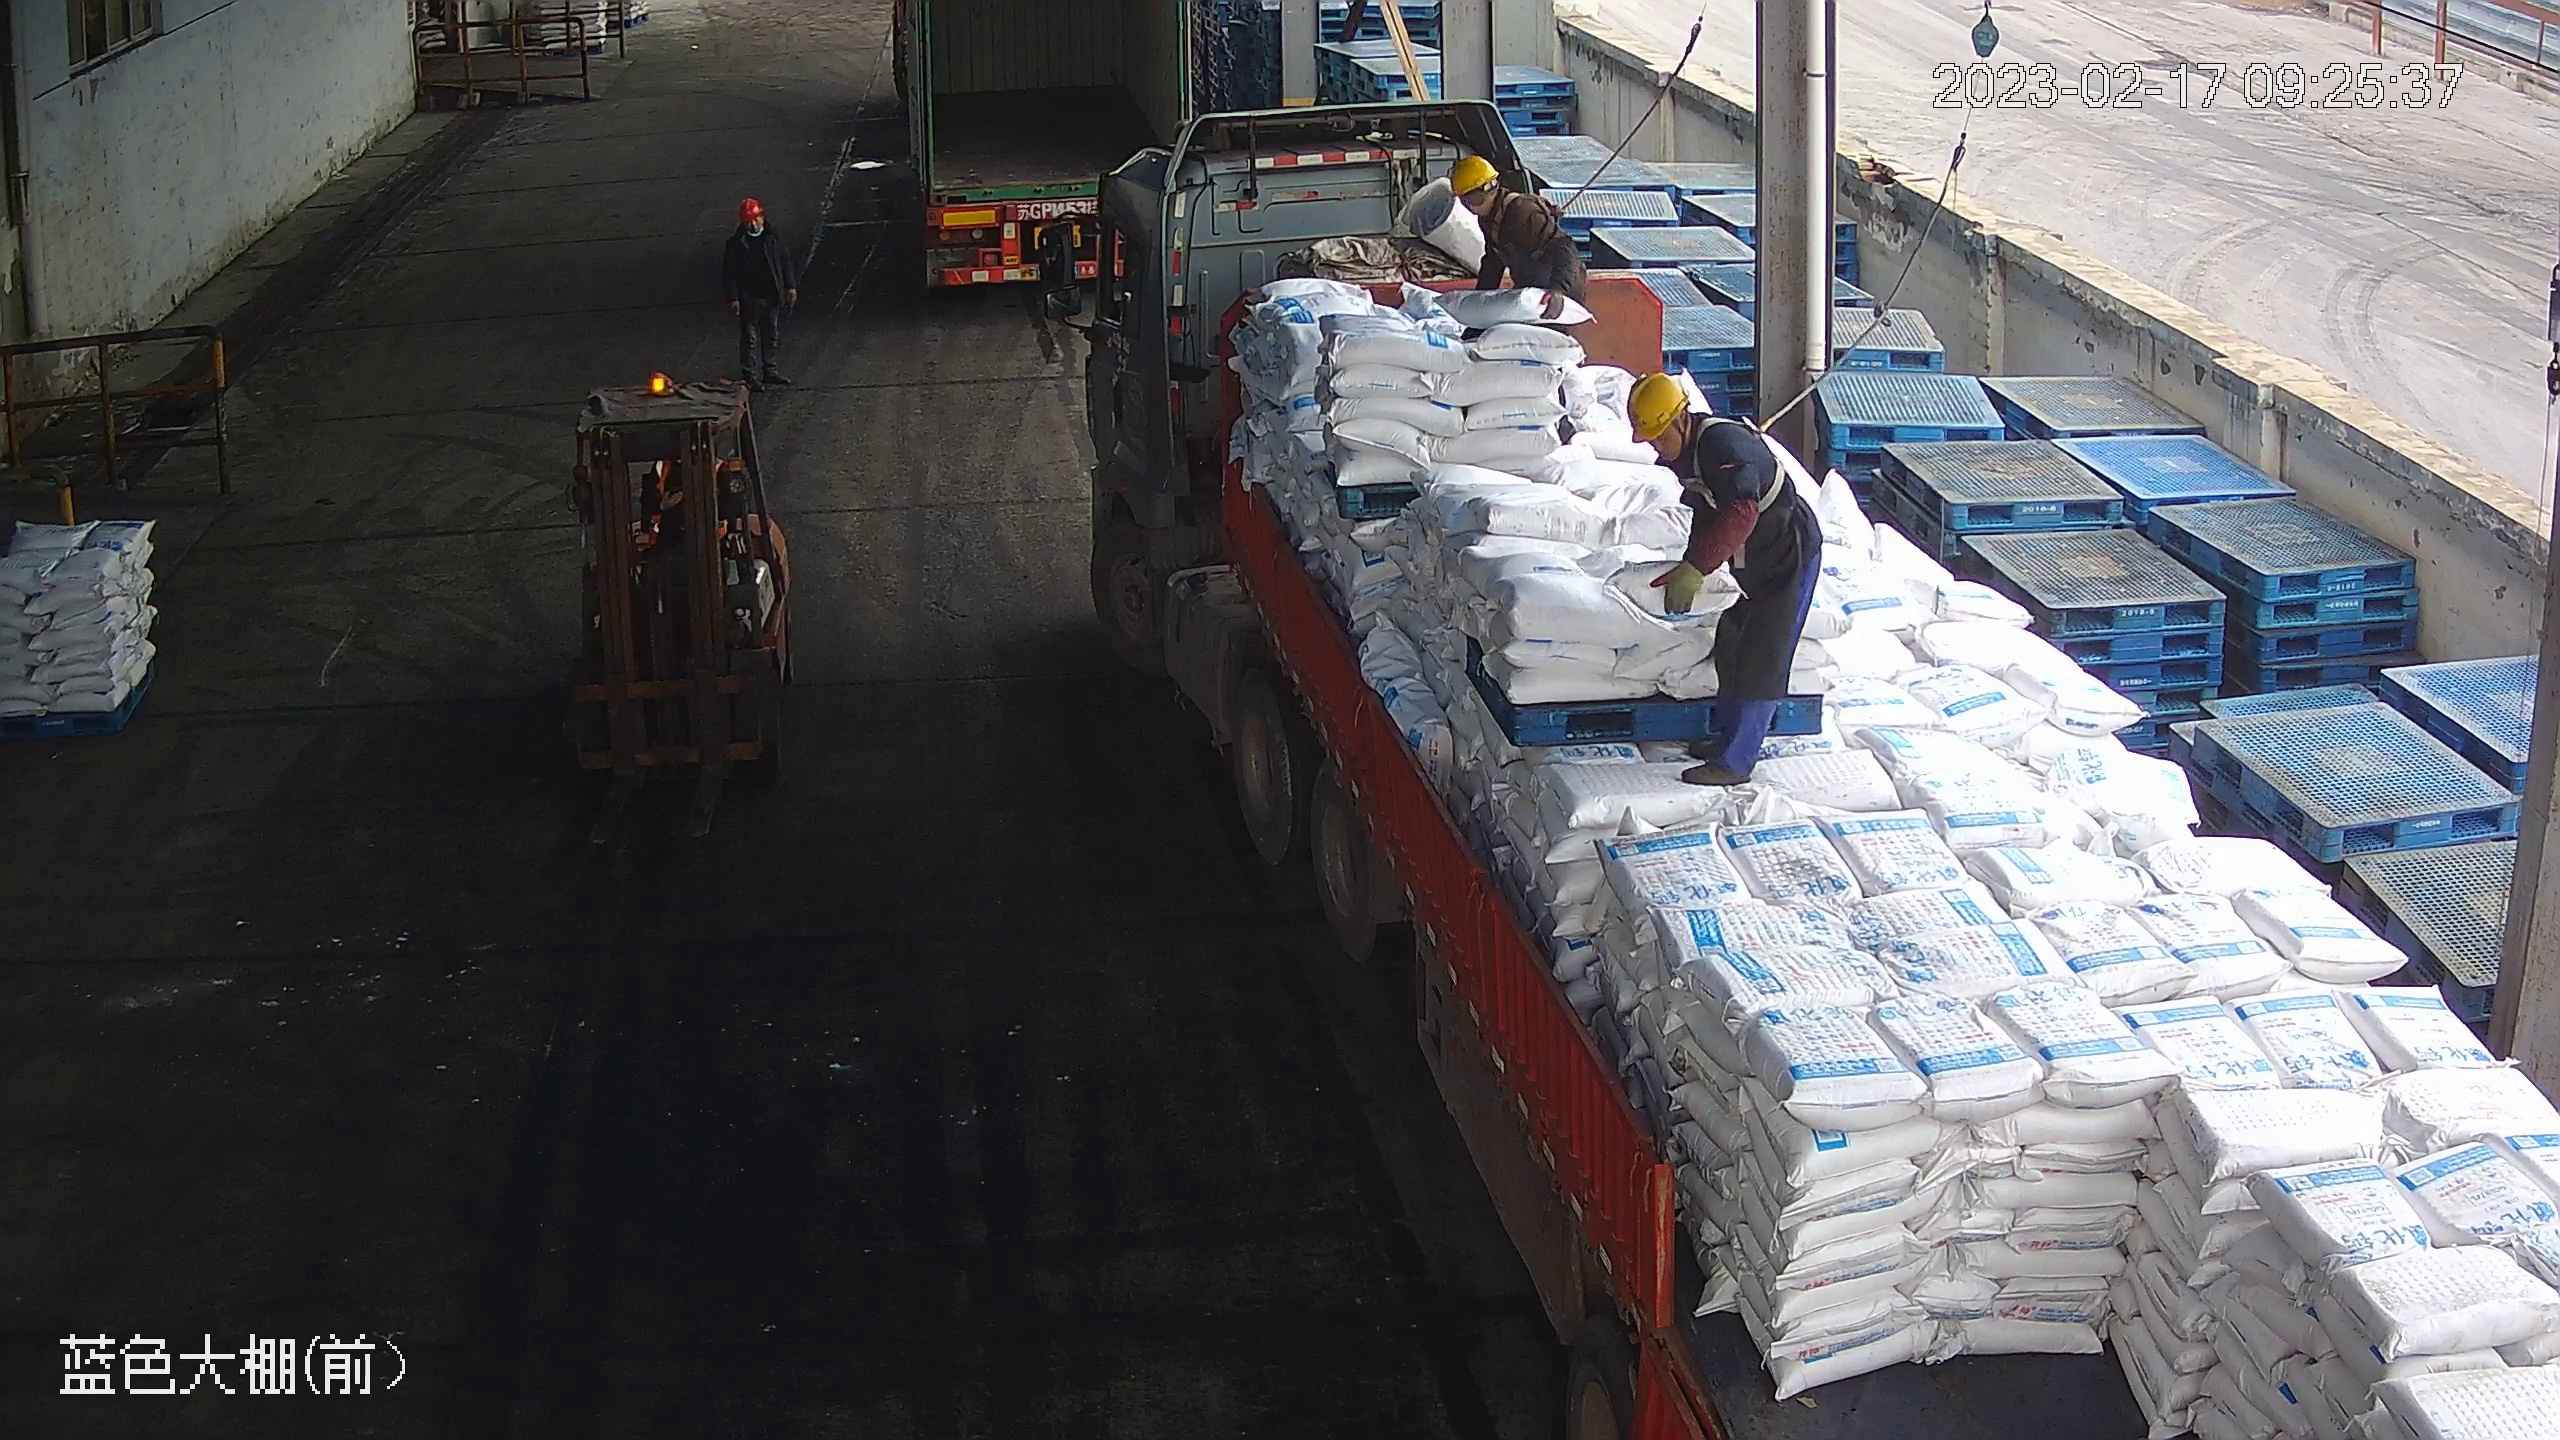belt: (1689, 414, 1787, 511), (1494, 185, 1551, 237)
head: (1624, 370, 1757, 488), (1446, 152, 1543, 232), (724, 195, 782, 255)
helmet: (1624, 368, 1686, 440), (1443, 151, 1497, 195), (737, 195, 768, 218)
people: (1624, 370, 1827, 790), (1446, 149, 1592, 328), (720, 194, 796, 390)
truck: (1036, 137, 2557, 1438), (847, 1, 1199, 293)
